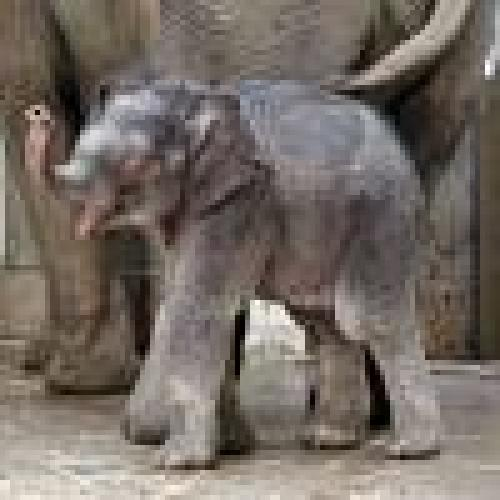asian_elephant-endangered: (3, 4, 488, 383), (82, 85, 447, 459)
